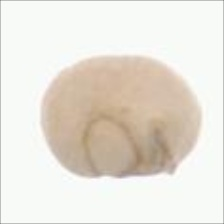L5: (81, 114, 139, 180)
L6: (37, 51, 206, 184)
